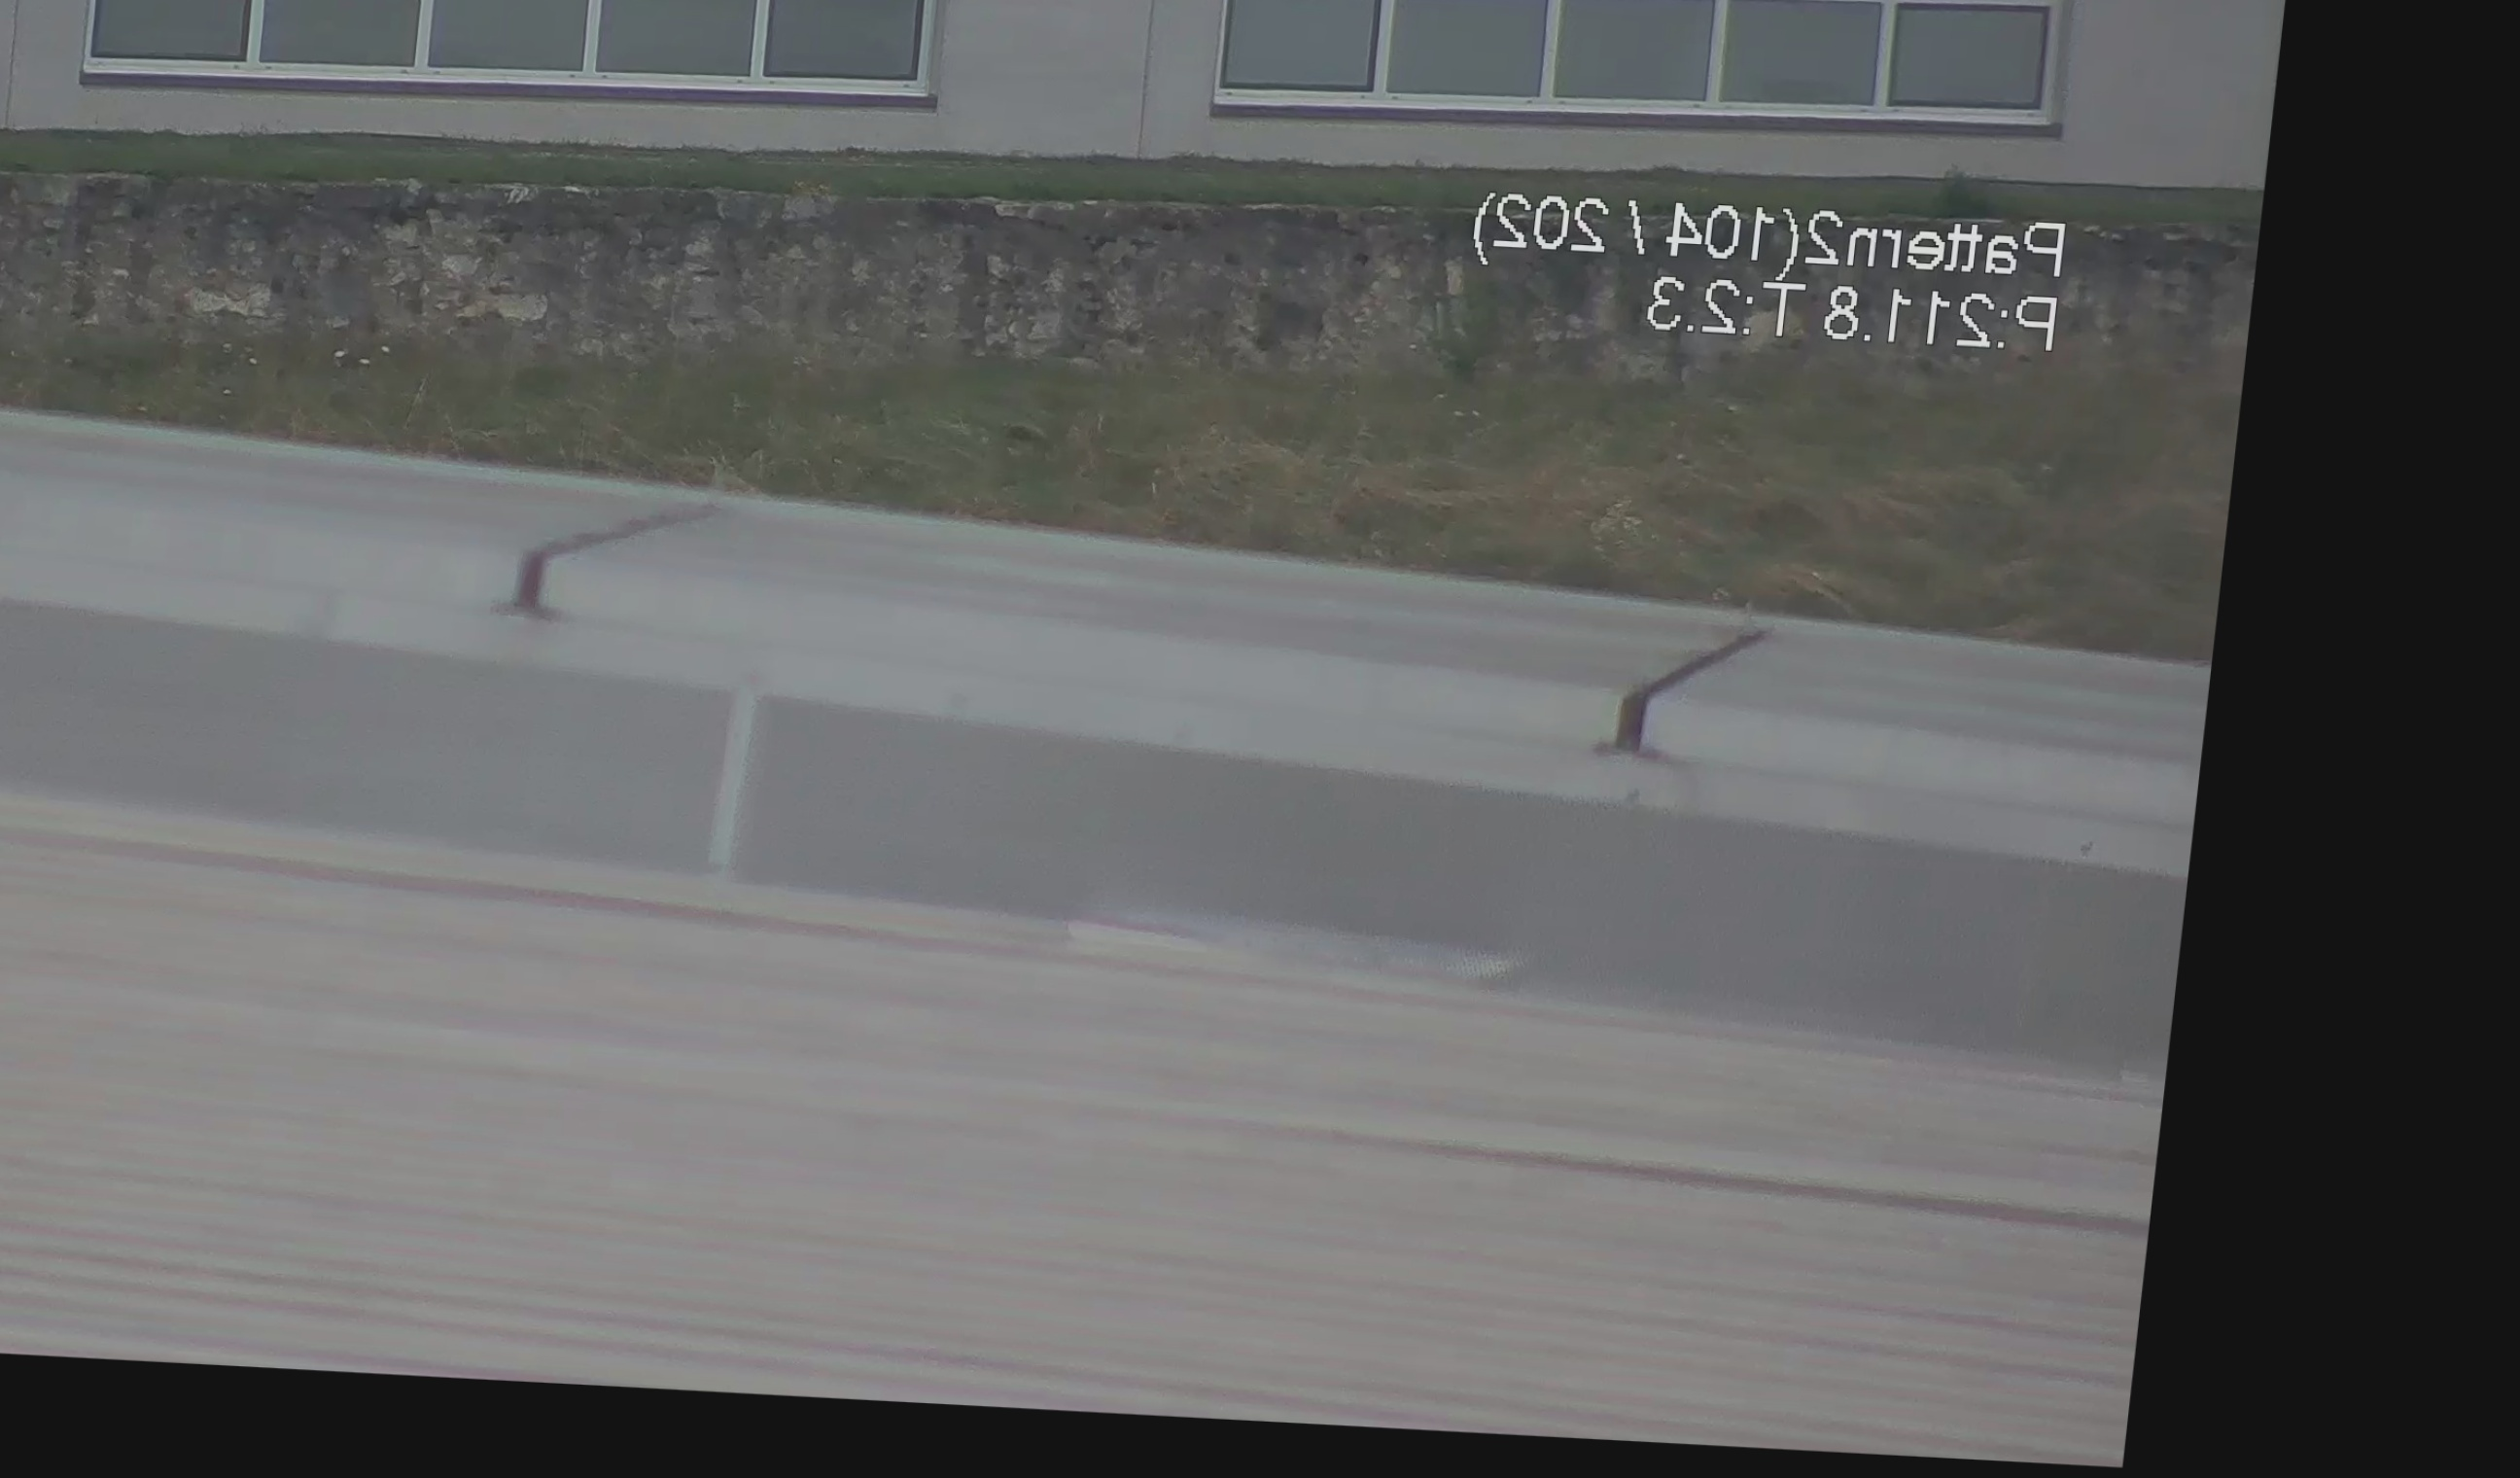Other: (1602, 602, 1792, 788)
